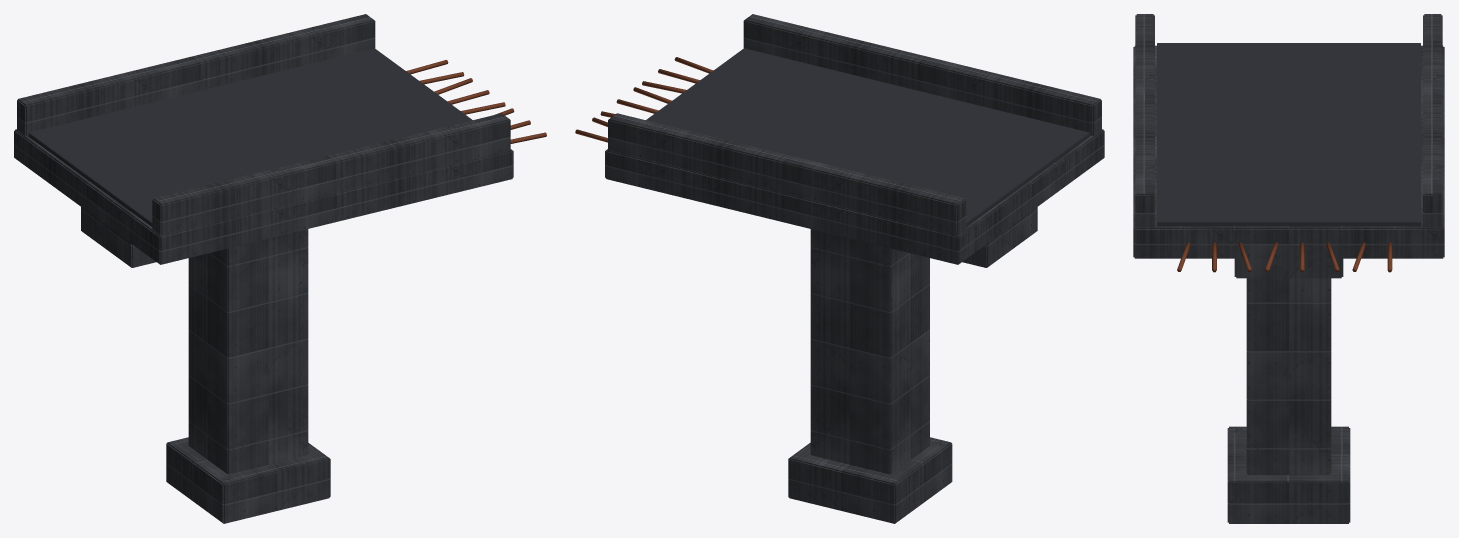
Rendered from overpass_pillar.glb.
The picture shows the model from 3 angles, left to right: view 1: azimuth 30°, elevation 25°; view 2: azimuth 150°, elevation 25°; view 3: azimuth 270°, elevation 25°; orthographic projection. The views are drawn at different scales.
Visible parts, largest first — view 1: DeckAsphalt, PierShaft, DeckSlab, Barrier_-1, Barrier_1, PierBase, PierCap; view 2: DeckAsphalt, PierShaft, DeckSlab, Barrier_1, Barrier_-1, PierBase, PierCap; view 3: DeckAsphalt, PierShaft, DeckSlab, PierBase, Barrier_-1, Barrier_1, PierCap.
Boxes of the visible parts, left/top/right/bottom form: DeckAsphalt: left=28, top=48, right=472, bottom=226; PierShaft: left=188, top=229, right=308, bottom=474; DeckSlab: left=14, top=129, right=513, bottom=264; Barrier_-1: left=152, top=113, right=510, bottom=235; Barrier_1: left=17, top=14, right=375, bottom=135; PierBase: left=166, top=437, right=330, bottom=523; PierCap: left=81, top=207, right=156, bottom=267; DeckAsphalt: left=646, top=48, right=1090, bottom=226; PierShaft: left=810, top=229, right=929, bottom=474; DeckSlab: left=605, top=129, right=1104, bottom=264; Barrier_1: left=608, top=113, right=966, bottom=235; Barrier_-1: left=743, top=14, right=1101, bottom=135; PierBase: left=788, top=437, right=952, bottom=523; PierCap: left=962, top=207, right=1037, bottom=267; DeckAsphalt: left=1157, top=43, right=1420, bottom=226; PierShaft: left=1246, top=278, right=1331, bottom=474; DeckSlab: left=1133, top=45, right=1444, bottom=258; PierBase: left=1227, top=426, right=1350, bottom=523; Barrier_-1: left=1135, top=14, right=1154, bottom=227; Barrier_1: left=1423, top=14, right=1442, bottom=227; PierCap: left=1234, top=258, right=1343, bottom=278.
Bounding box in the file's own units: 10.6 × 9.37 × 6.6.
Materials: 3 (1 with a texture image).
